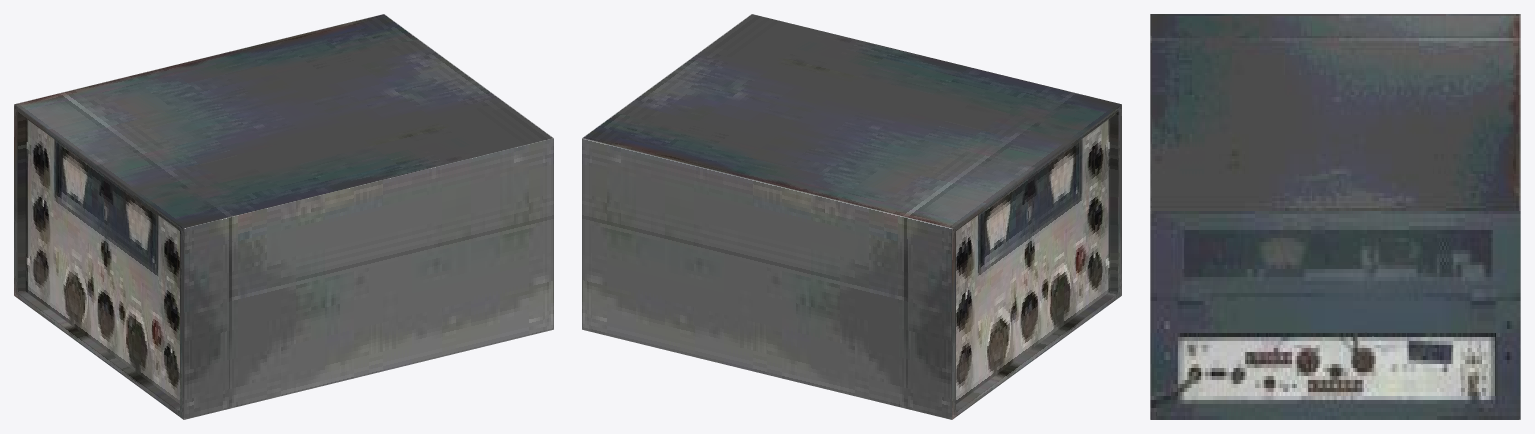
File: Retro Radio Receiver.glb
The picture shows the model from 3 angles, left to right: view 1: azimuth 30°, elevation 25°; view 2: azimuth 150°, elevation 25°; view 3: azimuth 270°, elevation 25°; orthographic projection. The views are drawn at different scales.
Parts seen in each view (by area): view 1: PSX style; view 2: PSX style; view 3: PSX style.
Part boxes in pixels (x1,y1,x2,y2): PSX style: (14, 14, 553, 419); PSX style: (582, 14, 1121, 419); PSX style: (1150, 14, 1520, 419).
Bounding box in the file's own units: 0.3803 × 0.1881 × 0.3021.
Materials: 1 (1 with a texture image).
